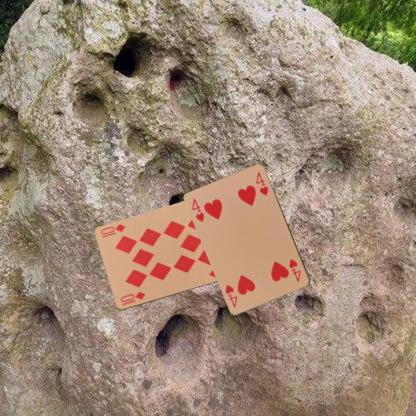10d: (118, 289, 147, 307)
4h: (190, 196, 206, 223), (287, 257, 302, 283)
